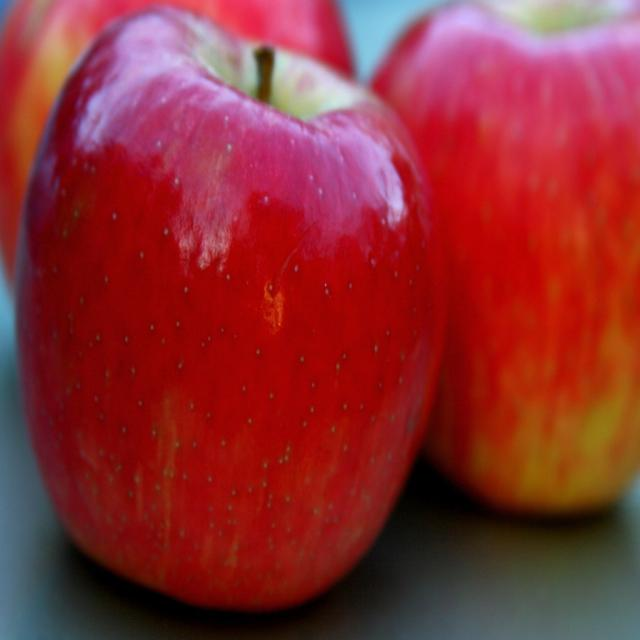Healty Apple: (26, 35, 447, 612), (368, 0, 639, 511), (0, 0, 355, 284)
